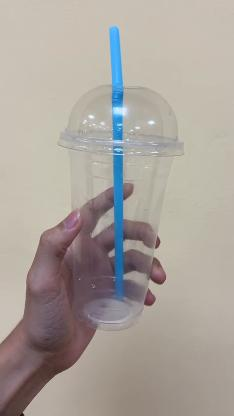Plastic Cup: (57, 81, 186, 333)
